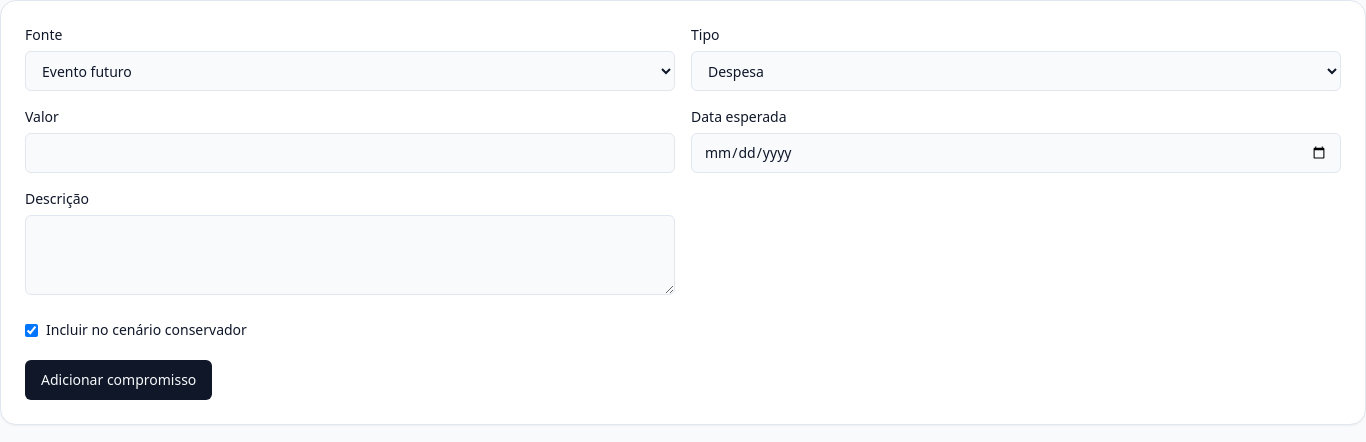
Test: ForecastCreateCommitmentForm money mask › masks the amount field as Brazilian currency instead of raw cents
Type "1" into the field labelled "Valor" at (350, 153), box x1=25 y1=133 x2=675 y2=173
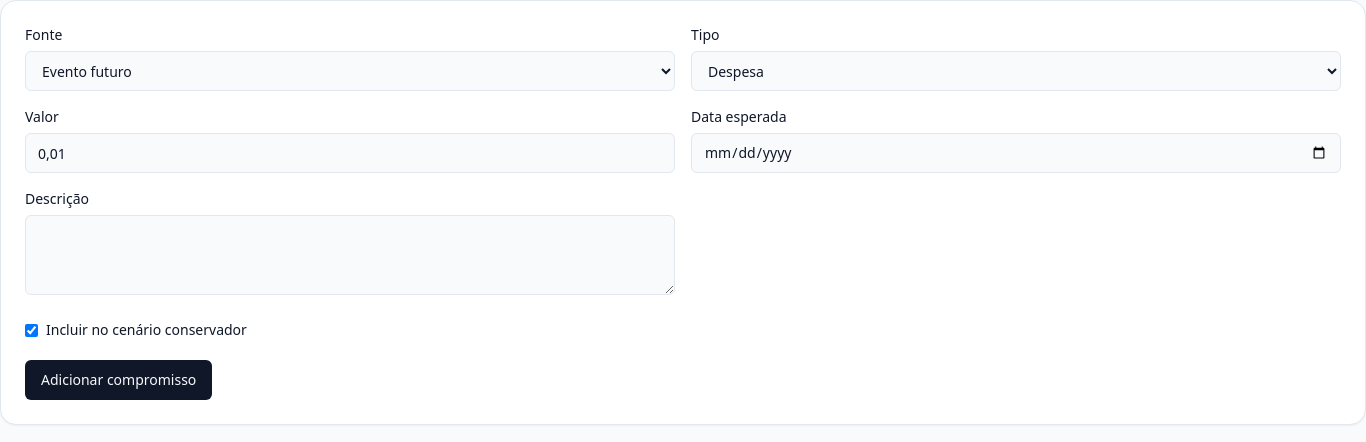
Result: the field labelled "Valor" holds "0,01"
Replace the text in the field labelled "Valor" with "0,012" at (350, 153), box x1=25 y1=133 x2=675 y2=173
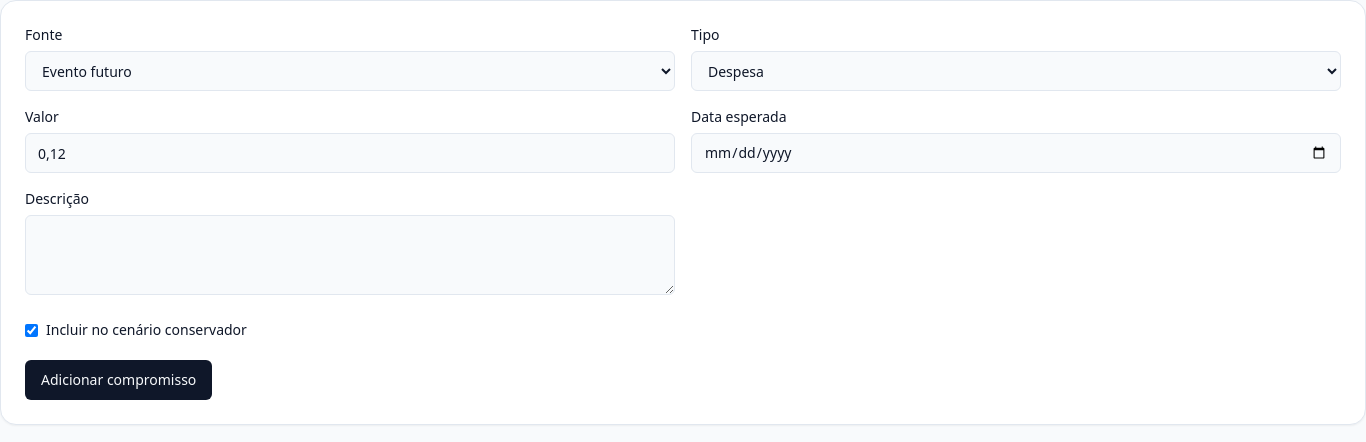
Result: the field labelled "Valor" holds "0,12"
Replace the text in the field labelled "Valor" with "0,123" at (350, 153), box x1=25 y1=133 x2=675 y2=173
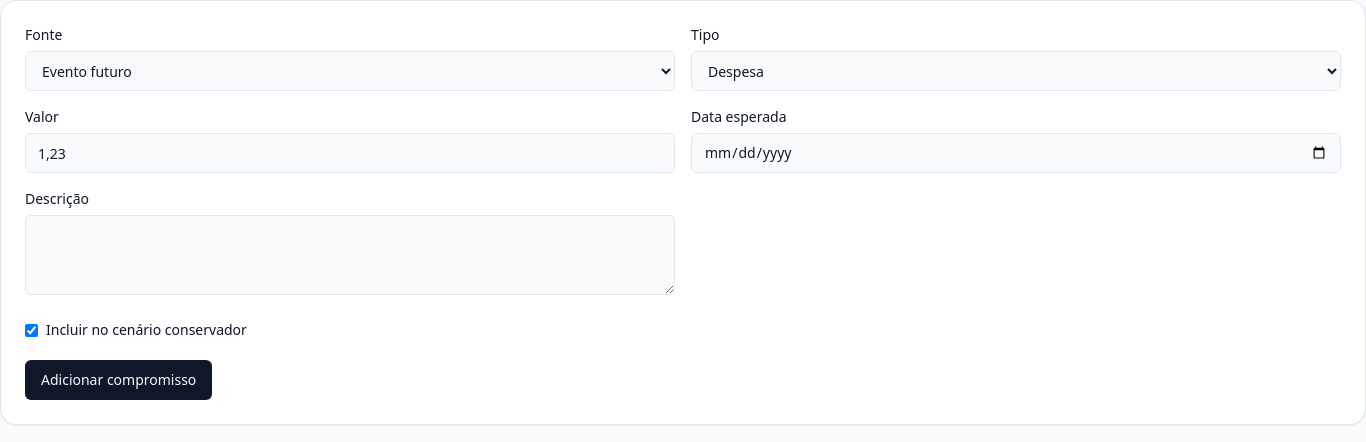
Result: the field labelled "Valor" holds "1,23"
Replace the text in the field labelled "Valor" with "1,234" at (350, 153), box x1=25 y1=133 x2=675 y2=173
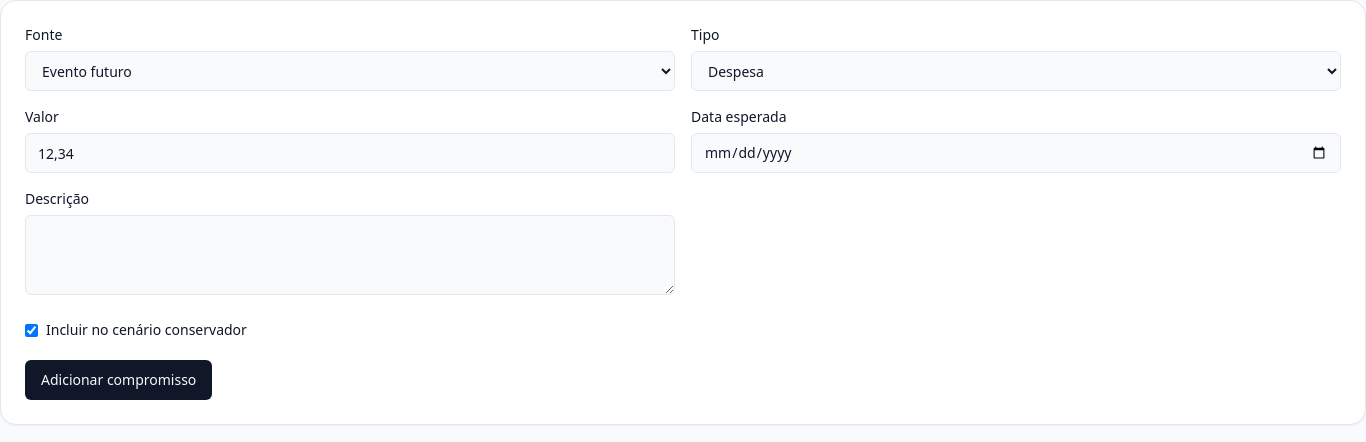
Result: the field labelled "Valor" holds "12,34"
Replace the text in the field labelled "Valor" with "12,345" at (350, 153), box x1=25 y1=133 x2=675 y2=173
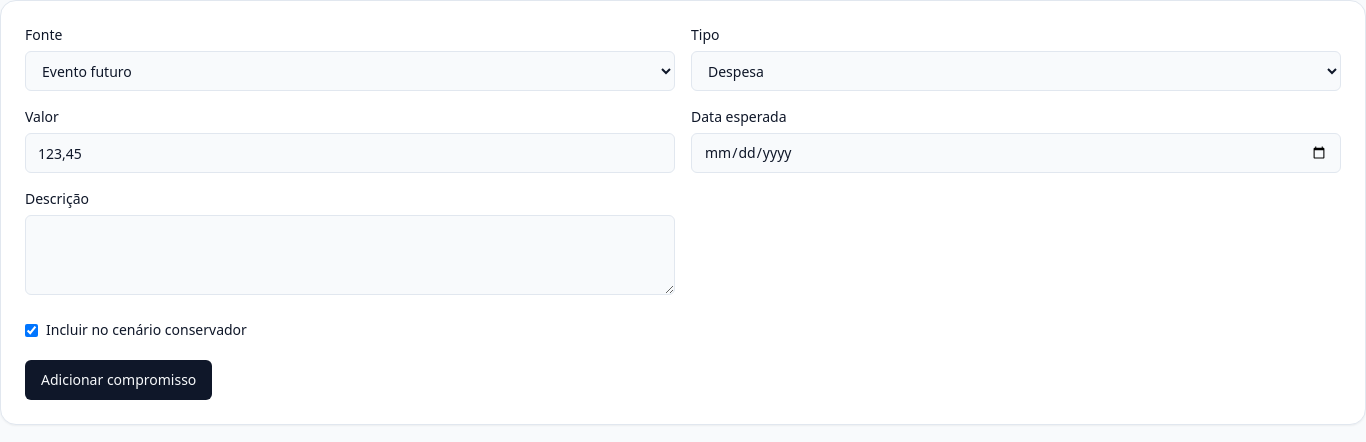
Result: the field labelled "Valor" holds "123,45"
Replace the text in the field labelled "Valor" with "123,456" at (350, 153), box x1=25 y1=133 x2=675 y2=173
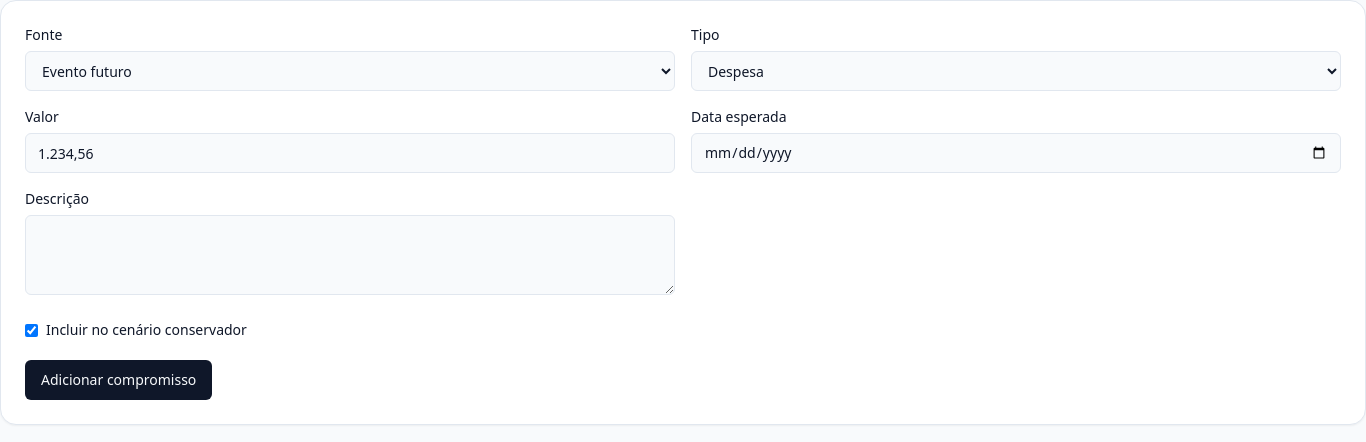
Result: the field labelled "Valor" holds "1.234,56" at x1=25 y1=133 x2=675 y2=173
